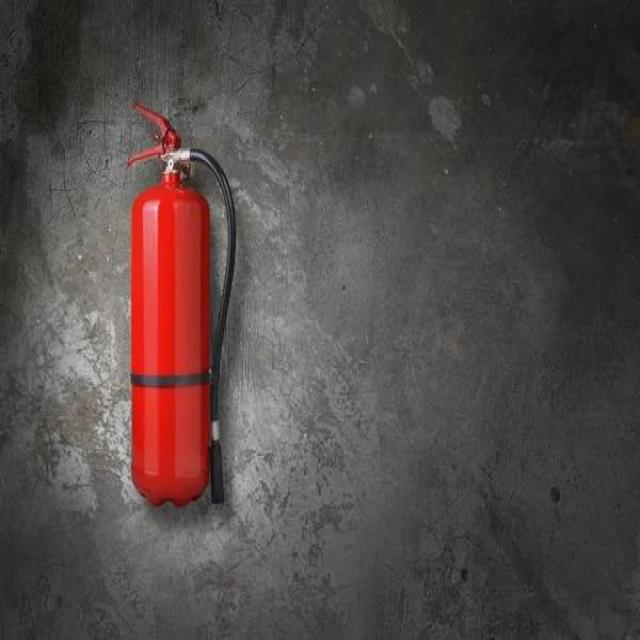fire_extinguisher: (125, 95, 238, 516)
